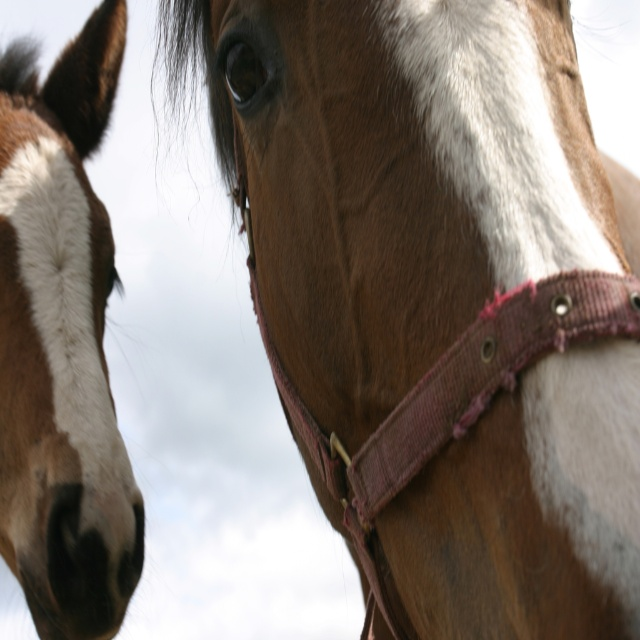Mule: (138, 0, 640, 640), (0, 0, 146, 640)
